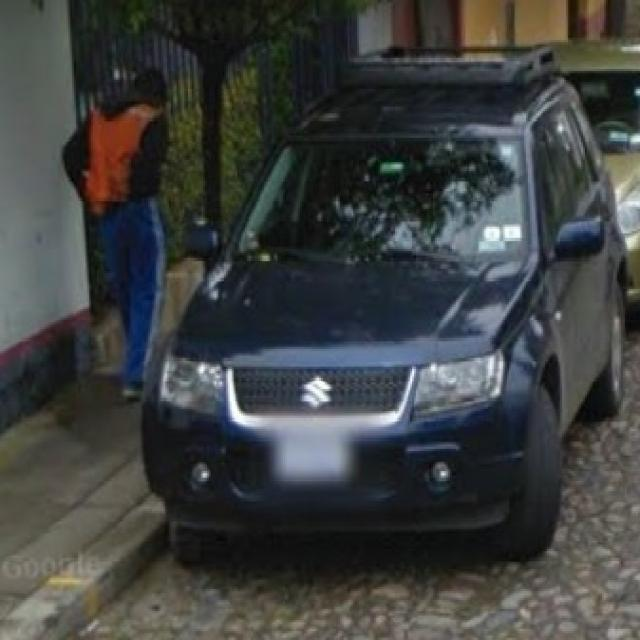Car: (162, 53, 636, 574)
